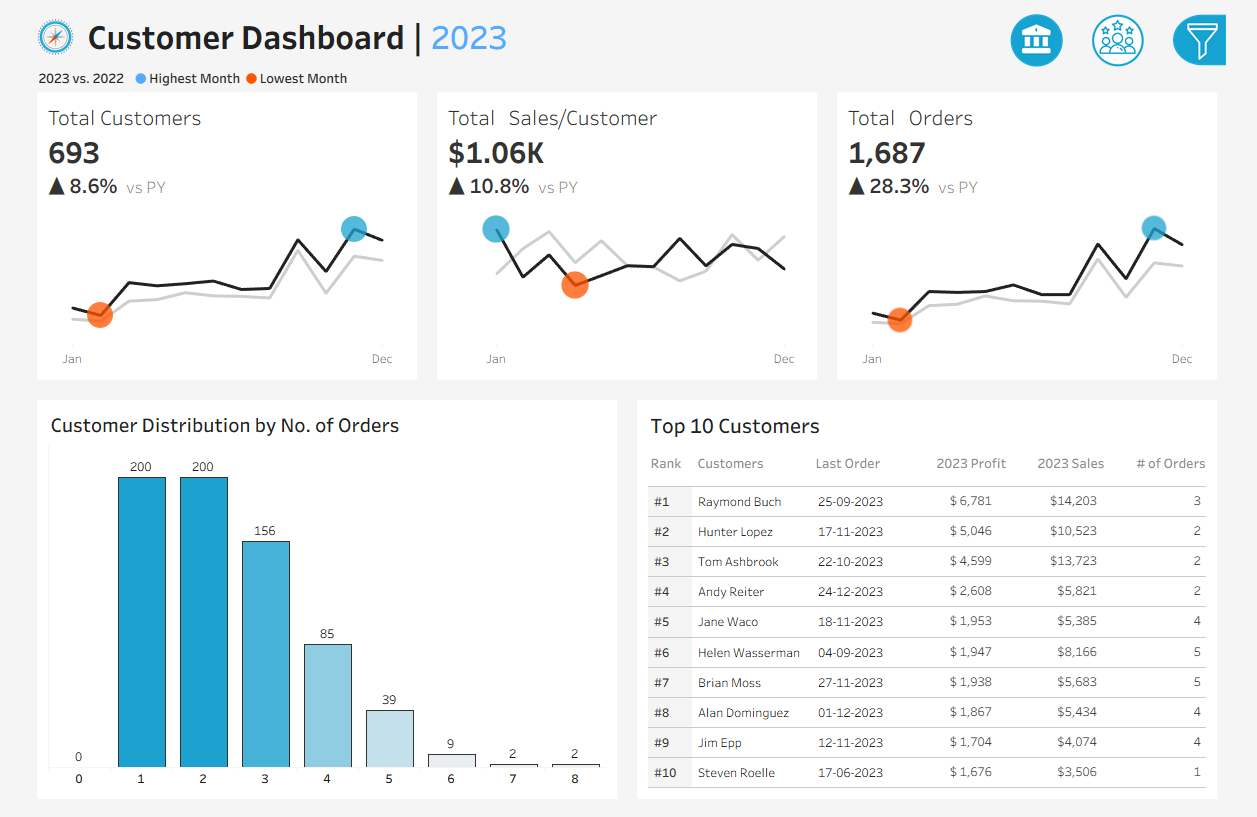

This screenshot's page, from the dashboard's own definition file:
{"tool":"tableau","page":{"name":"Customer Dashboard","canvas":[1200,800],"ordinal":0},"visuals":[{"type":"image","param":"Image/Icon - Logo.png","box":[2,0,52,55]},{"type":"text","box":[54,0,930,55]},{"type":"dashboard-object","box":[969,0,81,62]},{"type":"dashboard-object","box":[1050,0,81,62]},{"type":"blank","box":[978,5,215,80]},{"type":"worksheet","title":"Legend of KPI","mark":"Automatic","box":[0,55,1200,28]},{"type":"worksheet","title":"KPI Customers","mark":"Line","rows":["Min/Max profit (copy)_0750723922718724"],"cols":["Order Date"],"box":[0,83,400,298]},{"type":"worksheet","title":"KPI Sales Per Customers","mark":"Line","rows":["Min/Max Customers (copy)_0750723931500553"],"cols":["Order Date"],"box":[400,83,400,298]},{"type":"worksheet","title":"KPI Orders","mark":"Line","rows":["Min/Max Customers (copy)_0125651641778185"],"cols":["Order Date"],"box":[800,83,400,298]},{"type":"text","box":[978,85,215,32]},{"type":"parameter","param":"[Parameters].[Parameter 1018997670502403]","box":[978,117,215,63]},{"type":"blank","box":[978,180,215,45]},{"type":"text","box":[978,225,215,29]},{"type":"filter","title":"Customer Distribution","param":"[federated.0a49qa90tgosyq102g3m016yynfo].[none:Category:nk]","box":[978,254,215,52]},{"type":"filter","title":"Customer Distribution","param":"[federated.0a49qa90tgosyq102g3m016yynfo].[none:Sub-Category:nk]","box":[978,306,215,52]},{"type":"blank","box":[978,358,215,42]},{"type":"text","box":[17,398,566,34]},{"type":"text","box":[617,398,566,36]},{"type":"text","box":[978,400,215,38]},{"type":"worksheet","title":"Customer Distribution","mark":"Bar","rows":["Calculation_0190247816388609"],"cols":["Calculation_0506357867786240"],"box":[17,432,566,351]},{"type":"text","box":[617,434,47,39]},{"type":"text","box":[664,434,118,39]},{"type":"text","box":[782,434,121,39]},{"type":"text","box":[903,434,101,39]},{"type":"text","box":[1004,434,99,39]},{"type":"text","box":[1103,434,80,39]},{"type":"filter","title":"Customer Distribution","param":"[federated.0a49qa90tgosyq102g3m016yynfo].[none:Region:nk]","box":[978,438,215,52]},{"type":"worksheet","title":"Top Customers","mark":"Automatic","rows":["Calculation_0382663016828929","Customer Name","Order Date"],"box":[617,473,566,310]},{"type":"filter","title":"Customer Distribution","param":"[federated.0a49qa90tgosyq102g3m016yynfo].[none:State:nk]","box":[978,490,215,52]},{"type":"filter","title":"Customer Distribution","param":"[federated.0a49qa90tgosyq102g3m016yynfo].[none:City:nk]","box":[978,542,215,52]}]}

Visuals, with their boxes in screenshot pixels (x1, y1, x2, y2), scaled from the page's 1200x800 canvas onto the 1257x817 screenshot:
image: [left=2, top=0, right=57, bottom=56]
text: [left=57, top=0, right=1031, bottom=56]
dashboard-object: [left=1015, top=0, right=1100, bottom=63]
dashboard-object: [left=1100, top=0, right=1185, bottom=63]
blank: [left=1024, top=5, right=1250, bottom=87]
"Legend of KPI" worksheet: [left=0, top=56, right=1256, bottom=85]
"KPI Customers" worksheet (Line marks): [left=0, top=85, right=419, bottom=389]
"KPI Sales Per Customers" worksheet (Line marks): [left=419, top=85, right=838, bottom=389]
"KPI Orders" worksheet (Line marks): [left=838, top=85, right=1256, bottom=389]
text: [left=1024, top=87, right=1250, bottom=119]
parameter: [left=1024, top=119, right=1250, bottom=184]
blank: [left=1024, top=184, right=1250, bottom=230]
text: [left=1024, top=230, right=1250, bottom=259]
"Customer Distribution" filter: [left=1024, top=259, right=1250, bottom=313]
"Customer Distribution" filter: [left=1024, top=313, right=1250, bottom=366]
blank: [left=1024, top=366, right=1250, bottom=408]
text: [left=18, top=406, right=611, bottom=441]
text: [left=646, top=406, right=1239, bottom=443]
text: [left=1024, top=408, right=1250, bottom=447]
"Customer Distribution" worksheet (Bar marks): [left=18, top=441, right=611, bottom=800]
text: [left=646, top=443, right=696, bottom=483]
text: [left=696, top=443, right=819, bottom=483]
text: [left=819, top=443, right=946, bottom=483]
text: [left=946, top=443, right=1052, bottom=483]
text: [left=1052, top=443, right=1155, bottom=483]
text: [left=1155, top=443, right=1239, bottom=483]
"Customer Distribution" filter: [left=1024, top=447, right=1250, bottom=500]
"Top Customers" worksheet: [left=646, top=483, right=1239, bottom=800]
"Customer Distribution" filter: [left=1024, top=500, right=1250, bottom=554]
"Customer Distribution" filter: [left=1024, top=554, right=1250, bottom=607]
